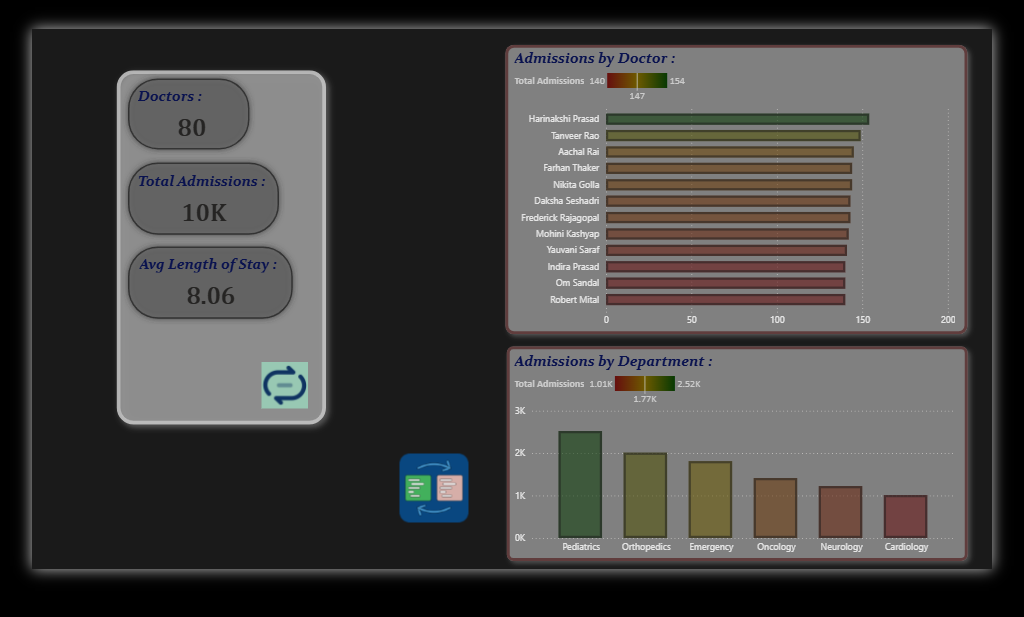

What the dashboard file says about the page in this screenshot:
{"tool":"powerbi","page":{"name":"Operational Efficiency Analysis :- ","canvas":[1280,720],"ordinal":2},"visuals":[{"type":"shape","box":[620,10,638.3,408],"z":0,"group":"g1"},{"type":"group","id":"g1","title":"Visual - Adm by Doc","box":[620,10,638.3,408],"z":0,"group":"g3"},{"type":"shape","box":[99.6,95.2,296,470.1],"z":0,"group":"g8"},{"type":"shape","box":[119.9,113.2,178.4,110.4],"z":0,"group":"g7"},{"type":"actionButton","title":"Home Button ","box":[25,142.5,95,100],"z":0,"group":"g10"},{"type":"shape","box":[119.9,225.1,217.9,112.1],"z":0,"group":"g4"},{"type":"group","id":"g2","title":"KIP - Avg Stay Time ","box":[119.9,337.1,236.8,112.1],"z":0,"group":"g6"},{"type":"shape","box":[119.9,337.1,236.2,112.1],"z":0,"group":"g2"},{"type":"shape","box":[621.7,411.7,636.6,308.3],"z":0,"group":"g5"},{"type":"actionButton","title":"Next Button ","box":[170,600,95,100],"z":0,"group":"g9"},{"type":"group","id":"g3","title":"Visual 2 - Admission","box":[620,10,638.3,710],"z":1000},{"type":"actionButton","title":"Filter Button ","box":[25,20,95,100],"z":1000,"group":"g10"},{"type":"clusteredBarChart","title":"Admissions by Doctor :","fields":{"Category":["Doctors.Doctor_Name"],"Y":["MyMeasures.Admissions Count"]},"box":[638.6,26.7,597.8,380],"z":1000,"group":"g1"},{"type":"card","title":"Doctors :","fields":{"Values":["MyMeasures.Total Doctor"]},"box":[136.6,131.9,153.4,81.5],"z":1000,"group":"g7"},{"type":"group","id":"g4","title":"KIP - Total Admissions","box":[119.9,225.1,218.4,112.1],"z":1000,"group":"g6"},{"type":"card","title":"Total Admissions :","fields":{"Values":["MyMeasures.Total Admissions"]},"box":[136.6,245.5,185.1,81.5],"z":1000,"group":"g4"},{"type":"card","title":"Avg Length of Stay :","fields":{"Values":["MyMeasures.Avg Length of Stay"]},"box":[138.2,355.8,200.1,81.5],"z":1000,"group":"g2"},{"type":"group","id":"g5","title":"Visual - Adm by Dept","box":[621.7,411.7,636.6,308.3],"z":1000,"group":"g3"},{"type":"clusteredColumnChart","title":"Admissions by Department : ","fields":{"Category":["Departments.Department_Name"],"Y":["MyMeasures.Admissions Count"]},"box":[638.6,430,597.8,278.3],"z":1000,"group":"g5"},{"type":"actionButton","title":"Table View Button ","box":[301.4,464.7,70.1,69.9],"z":1000,"group":"g8"},{"type":"actionButton","title":"Previous Button ","box":[25,600,95,100],"z":1000,"group":"g9"},{"type":"group","id":"g6","title":"All KPIs ","box":[119.9,113.2,236.8,335.9],"z":2000,"group":"g8"},{"type":"group","id":"g7","title":"KPI - Total Doctors ","box":[119.9,113.2,178.4,112.1],"z":2000,"group":"g6"},{"type":"actionButton","title":"Change View Button 1","box":[486,562,100,100],"z":2000},{"type":"group","id":"g8","title":"KPIs with BG","box":[99.6,95.2,296,470.1],"z":4000},{"type":"group","id":"g9","title":"Navigation ","box":[25,600,240,100],"z":5000},{"type":"shape","title":"Title","box":[7.3,11,600,85],"z":5500},{"type":"group","id":"g10","title":"Home + Filter ","box":[25,20,95,222.5],"z":6000}]}

Visuals, with their boxes on the page's 1280x720 design canvas (x1, y1, x2, y2). These are canvas units, not pixel positions in the 1024x617 screenshot, which may show the page scaled, cropped or inside an application window:
shape: box(620, 10, 1258, 418)
"Visual - Adm by Doc" group: box(620, 10, 1258, 418)
shape: box(100, 95, 396, 565)
shape: box(120, 113, 298, 224)
"Home Button " actionButton: box(25, 142, 120, 242)
shape: box(120, 225, 338, 337)
"KIP - Avg Stay Time " group: box(120, 337, 357, 449)
shape: box(120, 337, 356, 449)
shape: box(622, 412, 1258, 720)
"Next Button " actionButton: box(170, 600, 265, 700)
"Visual 2 - Admission" group: box(620, 10, 1258, 720)
"Filter Button " actionButton: box(25, 20, 120, 120)
"Admissions by Doctor :" clusteredBarChart: box(639, 27, 1236, 407)
"Doctors :" card: box(137, 132, 290, 213)
"KIP - Total Admissions" group: box(120, 225, 338, 337)
"Total Admissions :" card: box(137, 246, 322, 327)
"Avg Length of Stay :" card: box(138, 356, 338, 437)
"Visual - Adm by Dept" group: box(622, 412, 1258, 720)
"Admissions by Department : " clusteredColumnChart: box(639, 430, 1236, 708)
"Table View Button " actionButton: box(301, 465, 372, 535)
"Previous Button " actionButton: box(25, 600, 120, 700)
"All KPIs " group: box(120, 113, 357, 449)
"KPI - Total Doctors " group: box(120, 113, 298, 225)
"Change View Button 1" actionButton: box(486, 562, 586, 662)
"KPIs with BG" group: box(100, 95, 396, 565)
"Navigation " group: box(25, 600, 265, 700)
"Title" shape: box(7, 11, 607, 96)
"Home + Filter " group: box(25, 20, 120, 242)
